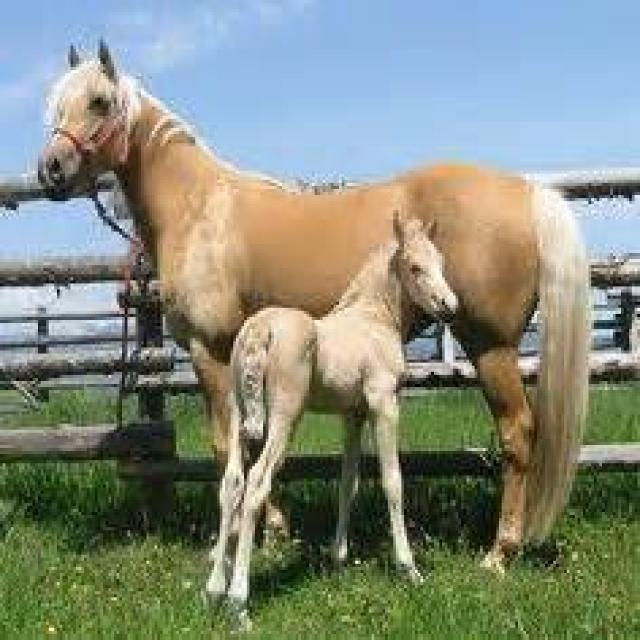animal: (35, 37, 591, 579), (204, 207, 458, 631)
